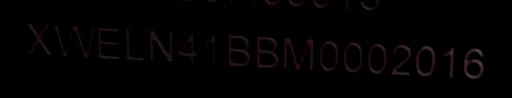letter: (52, 21, 96, 61), (280, 33, 316, 71), (146, 24, 178, 66), (25, 21, 55, 58), (250, 33, 280, 69), (94, 24, 122, 62), (224, 31, 252, 67), (460, 44, 488, 80), (121, 25, 147, 63), (362, 40, 390, 75), (386, 41, 414, 76), (175, 29, 201, 65), (316, 37, 342, 73), (340, 38, 366, 74), (412, 42, 438, 78), (200, 31, 220, 67), (438, 43, 458, 79)
